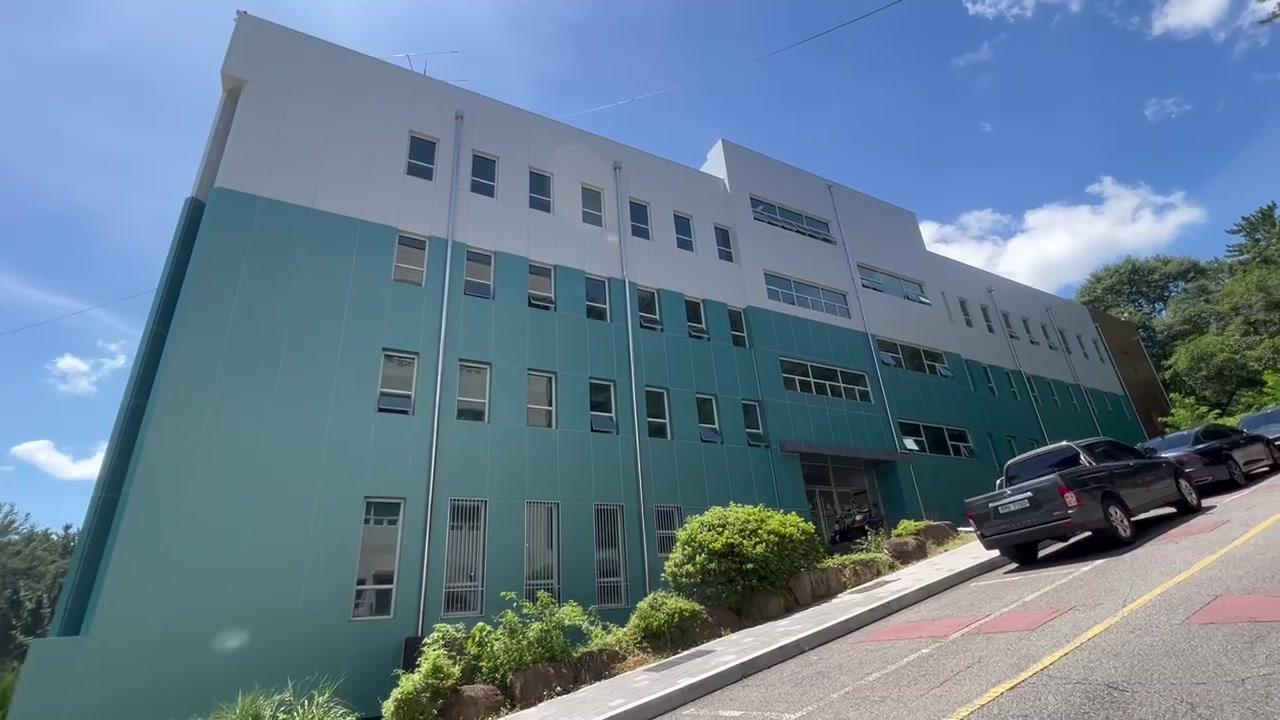building: (100, 21, 997, 498)
